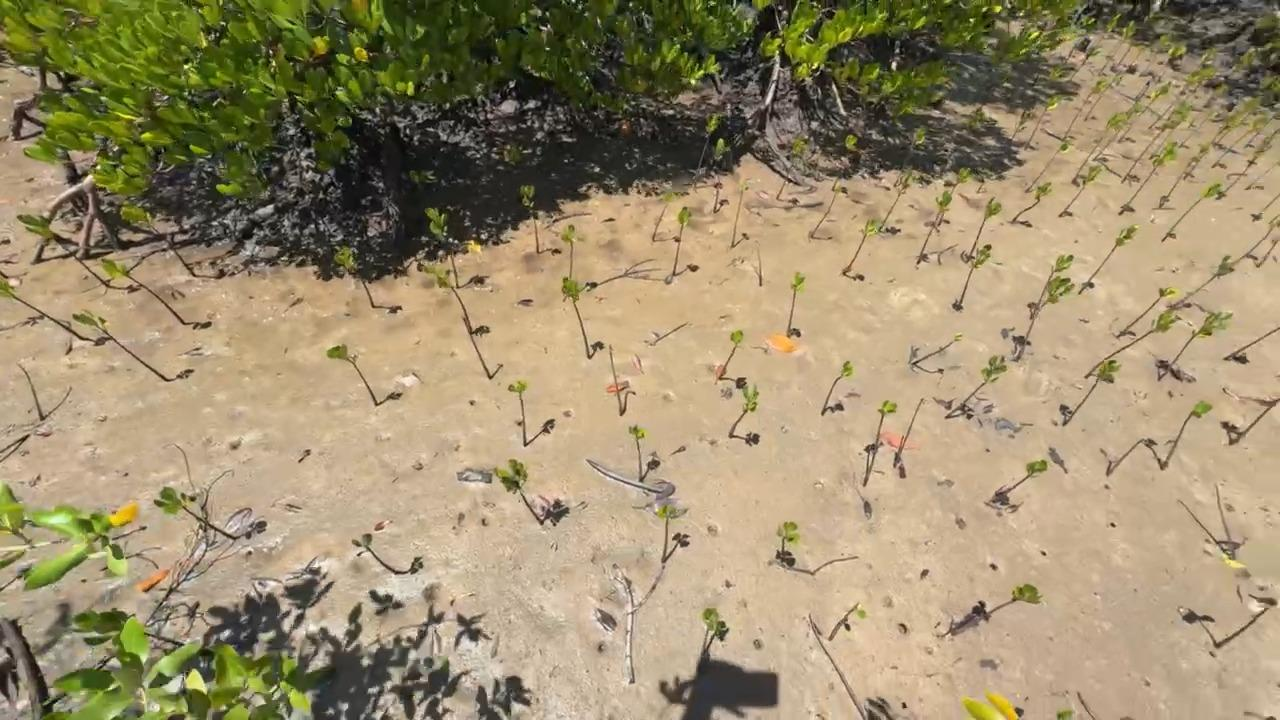Tree: (72, 308, 170, 382), (16, 212, 111, 288), (69, 609, 215, 657), (1083, 309, 1180, 379), (98, 256, 186, 325), (120, 200, 198, 277), (1157, 311, 1234, 381), (0, 278, 85, 341), (1016, 275, 1076, 363), (950, 584, 1045, 637), (153, 486, 238, 540), (1117, 141, 1179, 215), (1184, 106, 1245, 181), (1077, 224, 1139, 295), (1147, 68, 1216, 129), (417, 259, 473, 334), (944, 354, 1008, 419), (1161, 179, 1226, 243), (1071, 111, 1128, 183), (1061, 360, 1122, 427), (1210, 109, 1276, 169), (1159, 400, 1214, 471), (1215, 136, 1273, 201), (1167, 255, 1236, 309), (1213, 594, 1280, 649), (494, 459, 548, 526), (1158, 141, 1210, 210), (1118, 78, 1172, 143), (1116, 286, 1180, 339), (326, 344, 378, 406), (862, 399, 898, 487), (1024, 136, 1077, 194), (1061, 78, 1108, 142), (424, 207, 460, 288), (1091, 102, 1140, 161), (986, 460, 1048, 505), (333, 246, 377, 308), (916, 190, 952, 265), (561, 276, 592, 360), (1029, 255, 1069, 320), (1228, 398, 1280, 447), (876, 166, 913, 233), (955, 244, 992, 311), (965, 197, 1002, 263), (1057, 165, 1102, 217), (1096, 19, 1137, 76), (892, 125, 929, 188), (1230, 220, 1280, 266), (842, 216, 880, 276), (892, 398, 924, 469), (352, 533, 406, 575), (1215, 97, 1263, 144), (693, 113, 721, 192), (1084, 69, 1124, 124), (1024, 93, 1061, 151), (937, 168, 972, 226), (1222, 325, 1280, 360), (462, 316, 493, 380), (1187, 83, 1230, 129), (776, 133, 805, 201), (809, 181, 842, 239), (727, 383, 760, 438), (821, 361, 854, 416), (696, 607, 724, 671), (1213, 483, 1236, 560), (1011, 182, 1053, 224), (16, 362, 45, 421), (1178, 109, 1220, 149), (911, 334, 962, 366), (1137, 34, 1174, 78), (1153, 41, 1189, 86), (1105, 438, 1146, 477), (828, 601, 867, 641), (831, 134, 858, 191), (1243, 108, 1280, 149), (656, 503, 681, 563), (508, 379, 529, 448), (519, 184, 540, 253), (672, 207, 692, 276), (786, 270, 806, 339), (1068, 47, 1106, 82), (718, 330, 744, 380), (731, 181, 750, 248), (652, 191, 675, 243), (628, 423, 647, 482), (609, 344, 624, 416), (1245, 161, 1280, 191), (1095, 13, 1124, 48), (712, 138, 725, 214), (560, 223, 577, 280), (777, 521, 800, 562), (1010, 107, 1036, 141), (1250, 194, 1280, 223), (1255, 236, 1280, 269), (1133, 74, 1154, 104), (1195, 48, 1218, 73), (976, 166, 993, 194), (1117, 40, 1134, 67), (1063, 40, 1079, 64), (754, 240, 762, 286), (1129, 47, 1146, 67), (1267, 214, 1280, 224), (1270, 128, 1280, 137), (0, 271, 9, 278)
